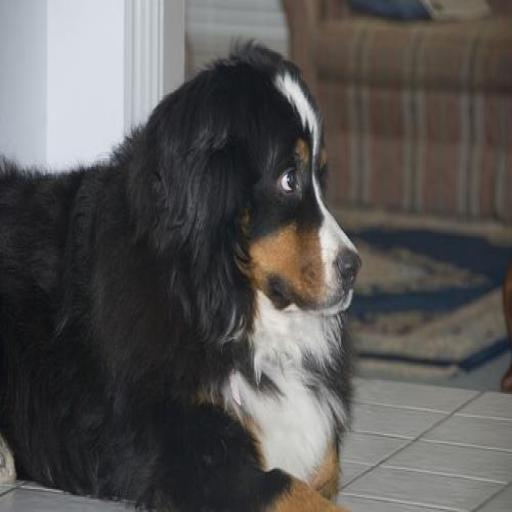dog_face: (149, 51, 360, 331)
